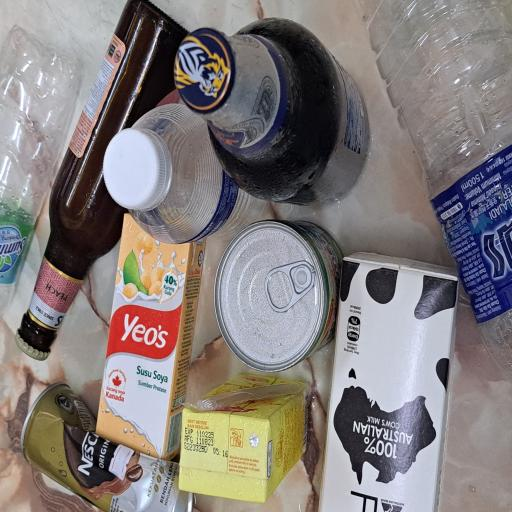can: (0, 29, 98, 255), (109, 286, 217, 470)
drink carton: (42, 123, 224, 272), (8, 234, 104, 417), (0, 423, 191, 512)
glass bottle: (114, 21, 384, 248), (230, 232, 370, 484)
plastic bottle: (146, 1, 366, 99), (204, 175, 303, 349)
plastic bottle cap: (230, 136, 284, 227)
pop tab: (146, 347, 186, 420)
